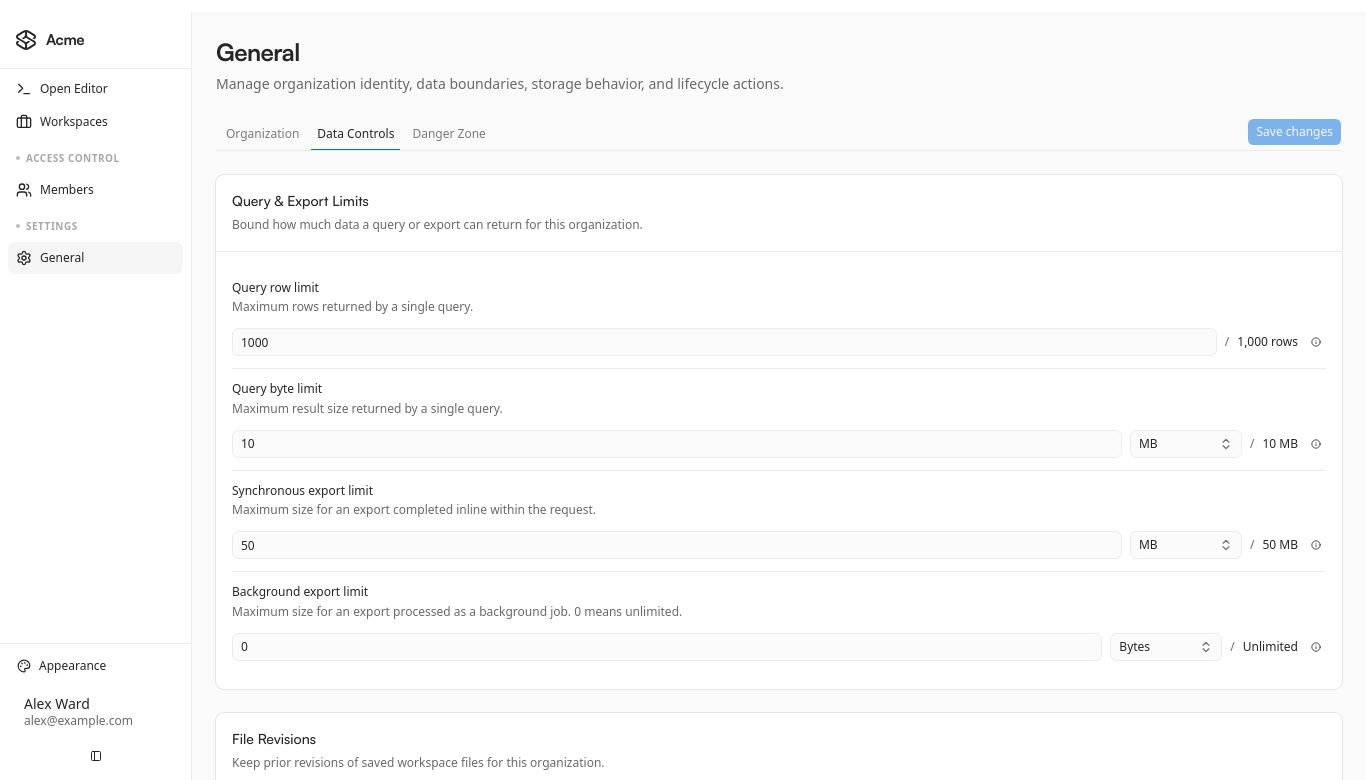
organization general settings runtime tab › redirects the legacy route and pairs editable values with instance boundaries
Check: the heading "General" is shown, box [216,37,300,67]
Check: the number field named "Query row limit" holds "1000", box [232,328,1217,356]
Hover over the button named "About the Query row limit instance setting" at (1316, 342), box [1306,332,1326,352]
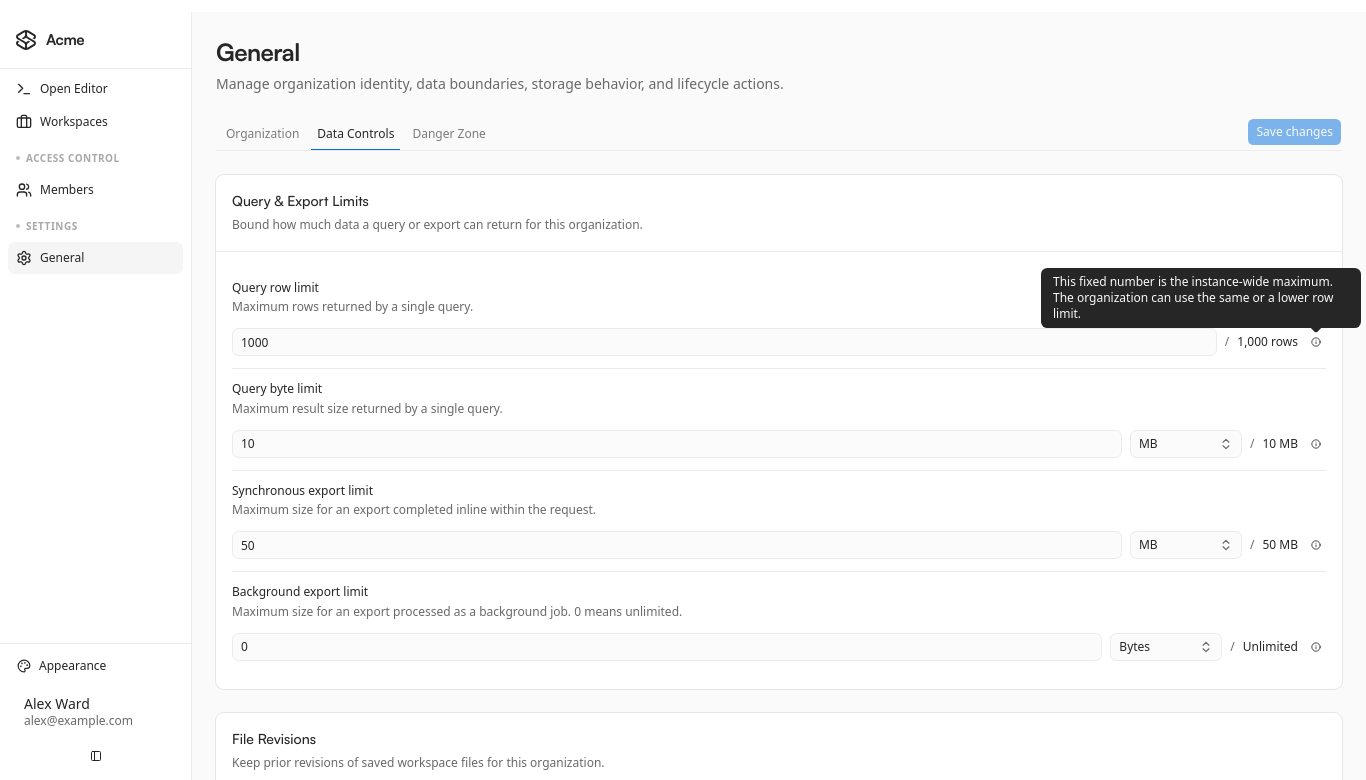
Check: the text "fixed number is the instance-wide maximum" is shown, box [1053,273,1333,322]
